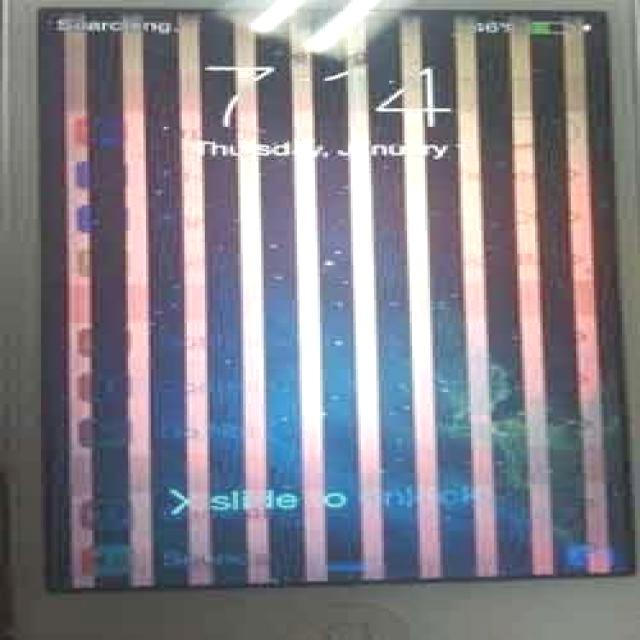phone: (32, 3, 640, 578)
